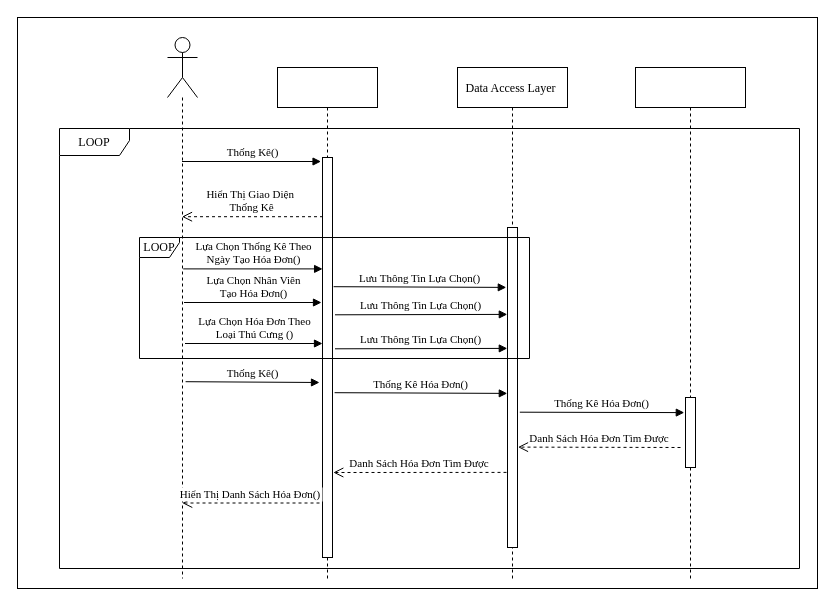
Some shapes in this 835 by 606 pixel diagram are drawn without their labels. Here are the shapes that lost their labels. From the top down, the box of each, then its label:
(276, 66, 378, 578): GUI
(634, 66, 746, 578): Database
